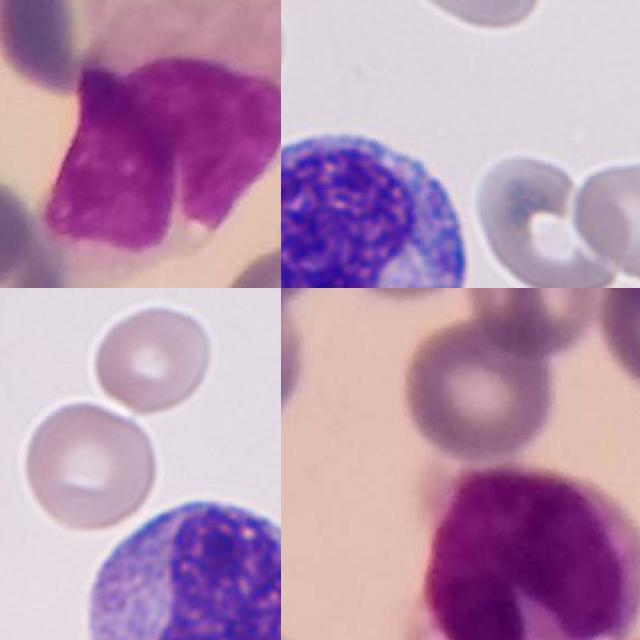Lymphocyte: (281, 117, 480, 288), (70, 483, 281, 640)
Monocyte: (56, 0, 281, 288), (410, 464, 640, 640)
RBC: (468, 144, 637, 288), (17, 397, 164, 535), (90, 301, 216, 420), (568, 151, 640, 288), (384, 0, 548, 35)
